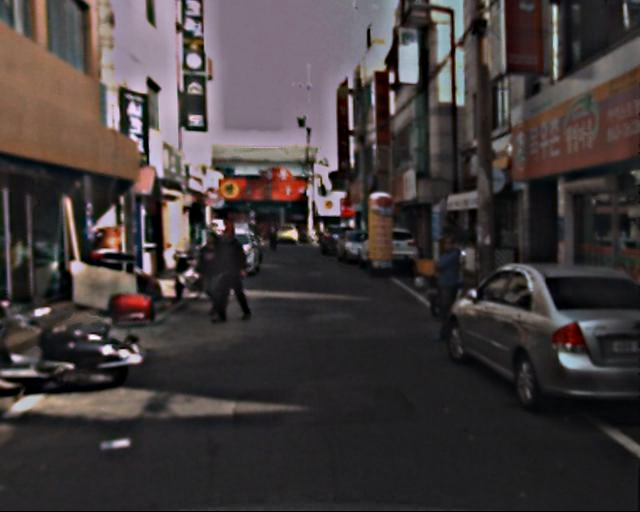person: (428, 228, 476, 349), (215, 219, 250, 320), (197, 227, 226, 314), (265, 216, 284, 255)
